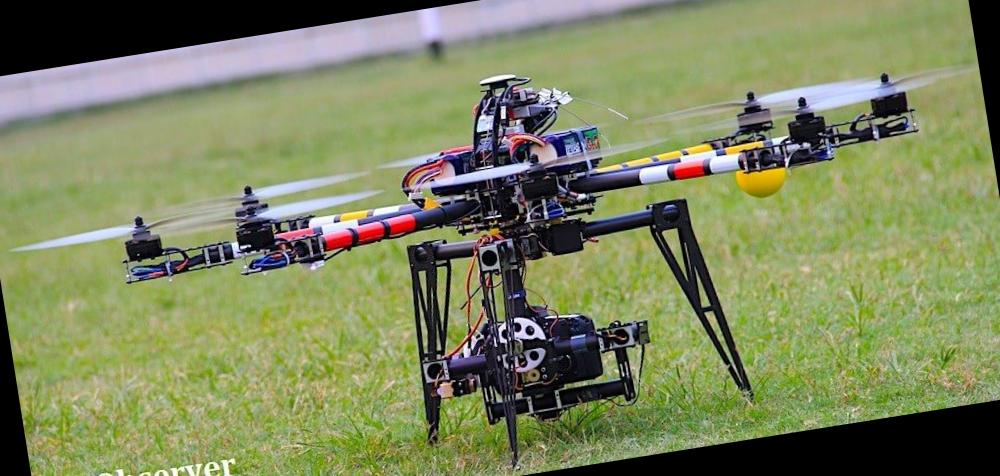drone: (0, 48, 1000, 378)
